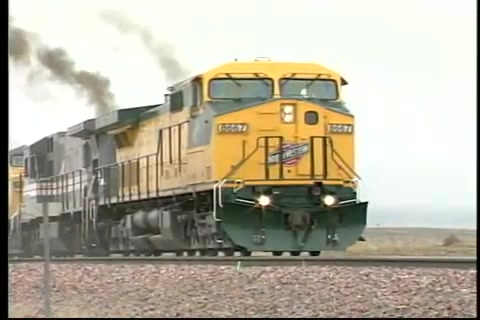train: (9, 56, 370, 260)
